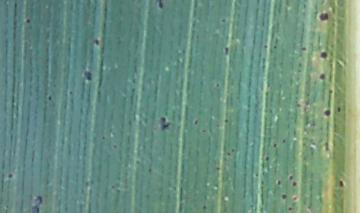tarspot: (30, 195, 43, 213), (160, 115, 171, 131), (82, 70, 94, 82), (317, 12, 329, 23), (318, 51, 328, 60), (322, 108, 331, 117), (318, 72, 326, 82), (323, 140, 329, 153), (93, 37, 100, 48), (156, 1, 165, 9), (338, 178, 344, 189), (219, 16, 227, 24), (199, 127, 207, 135), (223, 46, 229, 56), (299, 46, 307, 53), (7, 172, 14, 180), (146, 166, 153, 174), (280, 192, 287, 200), (294, 102, 302, 109), (111, 143, 118, 150), (46, 94, 52, 102), (192, 118, 200, 124), (254, 170, 260, 178), (263, 90, 269, 98), (336, 105, 341, 114), (327, 88, 333, 95), (264, 155, 270, 162), (262, 43, 268, 50), (24, 18, 31, 24), (214, 81, 220, 88), (288, 174, 294, 181), (291, 180, 297, 187), (67, 90, 73, 96), (287, 206, 293, 212), (201, 204, 207, 210), (272, 142, 277, 149), (272, 43, 277, 50), (214, 166, 221, 171), (281, 138, 286, 144), (223, 118, 229, 123), (226, 151, 231, 157), (276, 179, 280, 186), (100, 135, 105, 140)
